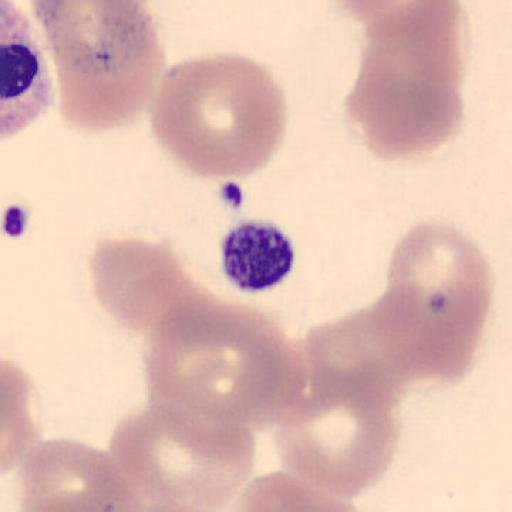Platelet: (218, 216, 298, 295)
RBC: (144, 291, 307, 430), (344, 0, 468, 158), (381, 215, 495, 380), (269, 363, 401, 504), (148, 50, 290, 180), (106, 400, 257, 512), (42, 1, 166, 136), (297, 291, 437, 409), (88, 233, 226, 341), (369, 278, 490, 382), (150, 354, 254, 456), (86, 233, 188, 335), (16, 436, 132, 512), (143, 309, 228, 412), (28, 0, 154, 68), (327, 0, 466, 56), (219, 468, 370, 512), (325, 0, 461, 31), (0, 356, 34, 478)
WBC: (0, 1, 53, 143)
